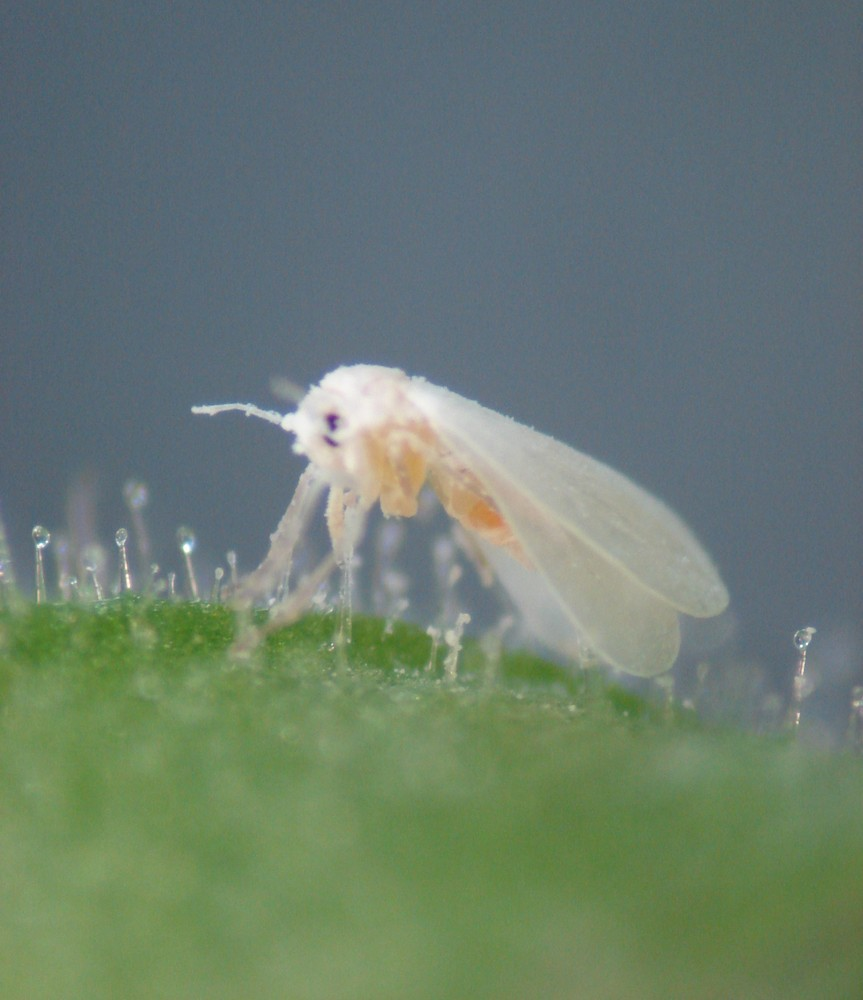Mosca Blanca: (184, 324, 758, 739)
